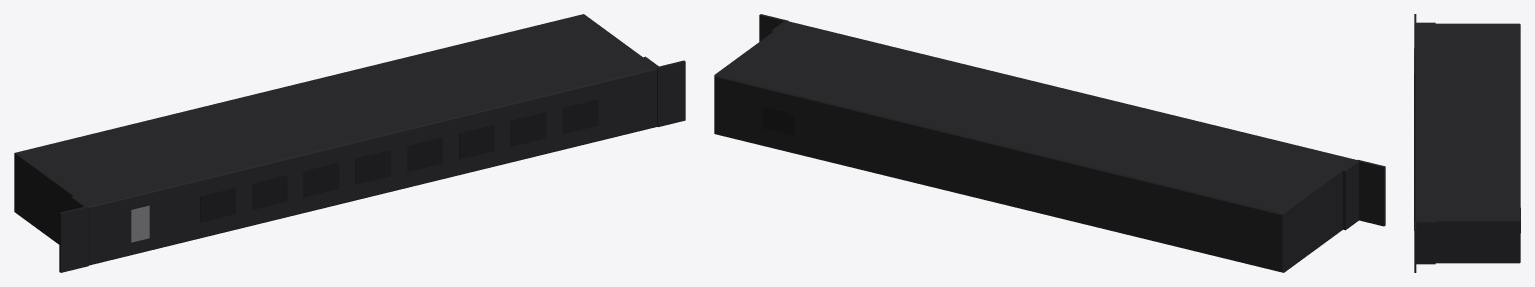
File: PDU-1U-8xC13.far.glb
The picture shows the model from 3 angles, left to right: view 1: azimuth 30°, elevation 25°; view 2: azimuth 150°, elevation 25°; view 3: azimuth 270°, elevation 25°; orthographic projection. The views are drawn at different scales.
Visible parts, largest first — view 1: PDU-1U-8xC13_Body_far; view 2: PDU-1U-8xC13_Body_far; view 3: PDU-1U-8xC13_Body_far.
Part boxes in pixels (box(x1,y1,x2,y2)): PDU-1U-8xC13_Body_far: box(14, 14, 685, 272); PDU-1U-8xC13_Body_far: box(714, 14, 1385, 272); PDU-1U-8xC13_Body_far: box(1414, 14, 1520, 272).
Size of the model in its own units: 0.4826 by 0.0436 by 0.1005.
Materials: 1 (1 with a texture image).
